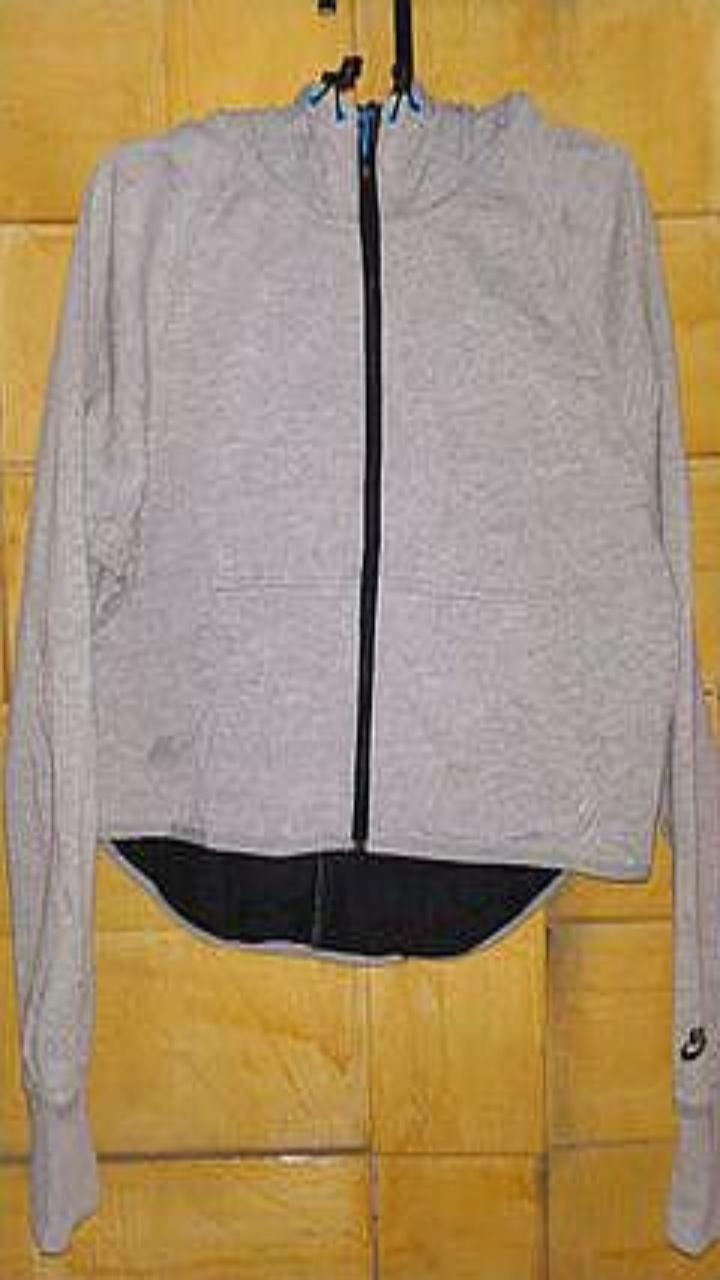Sports_Jacket: (6, 83, 719, 1252)
